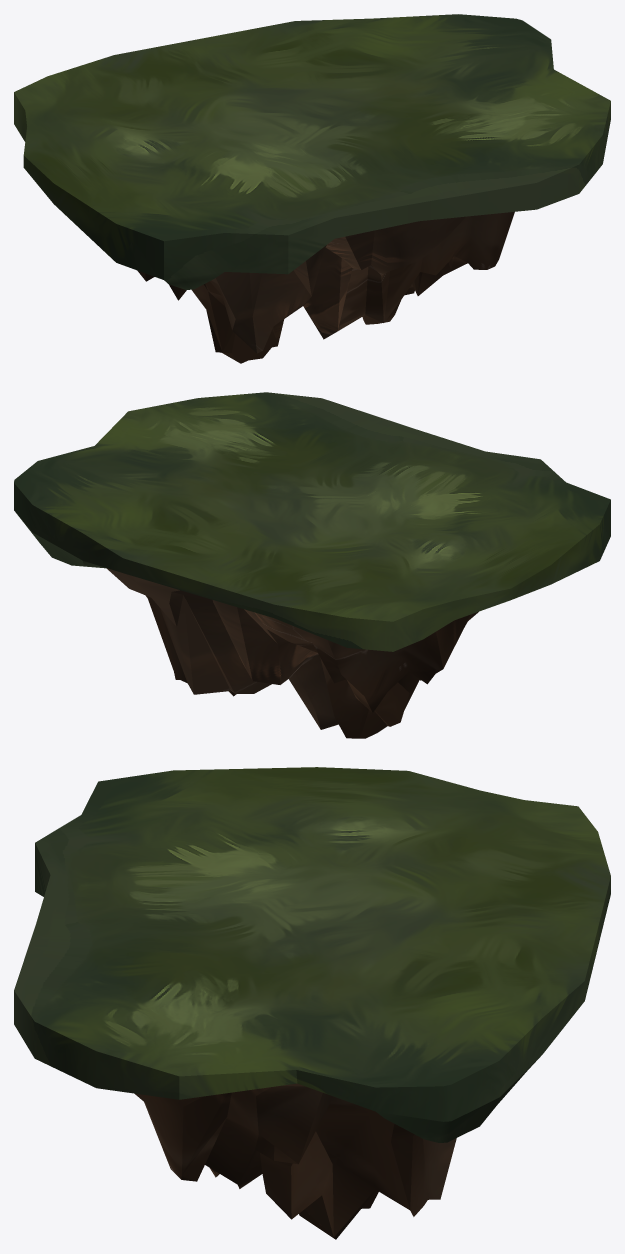
Rendered from wyspa_srednia_1.obj.
3 views of the same model, one above another, from view 1: azimuth 30°, elevation 25°; view 2: azimuth 150°, elevation 25°; view 3: azimuth 270°, elevation 25° (orthographic). The views are drawn at different scales.
Visible parts, largest first — view 1: Landscape.002; view 2: Landscape.002; view 3: Landscape.002.
Part boxes in pixels (x1,y1,x2,y2): Landscape.002: (14,14,610,363); Landscape.002: (14,392,610,738); Landscape.002: (14,767,610,1239).
Size of the model in its own units: 27.14 by 11.48 by 21.37.
Materials: 2 (2 with a texture image).
